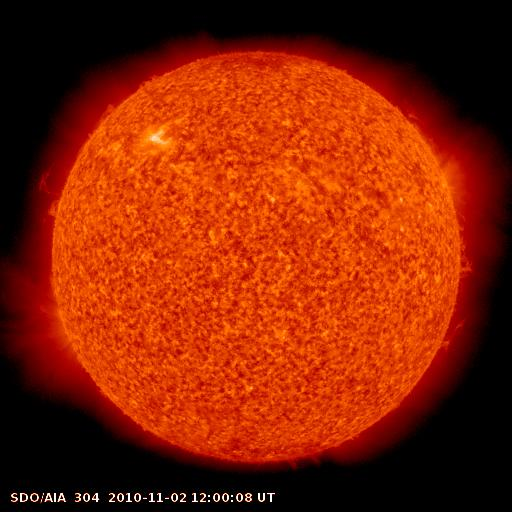prominence: (435, 206, 490, 286), (23, 149, 78, 225), (426, 307, 477, 365), (86, 98, 136, 135), (129, 65, 171, 101)
